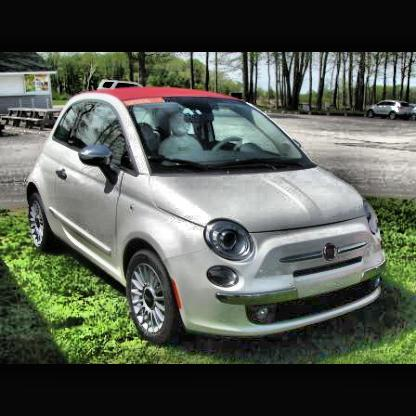FIAT 500 Convertible 2012: (28, 90, 389, 349)
